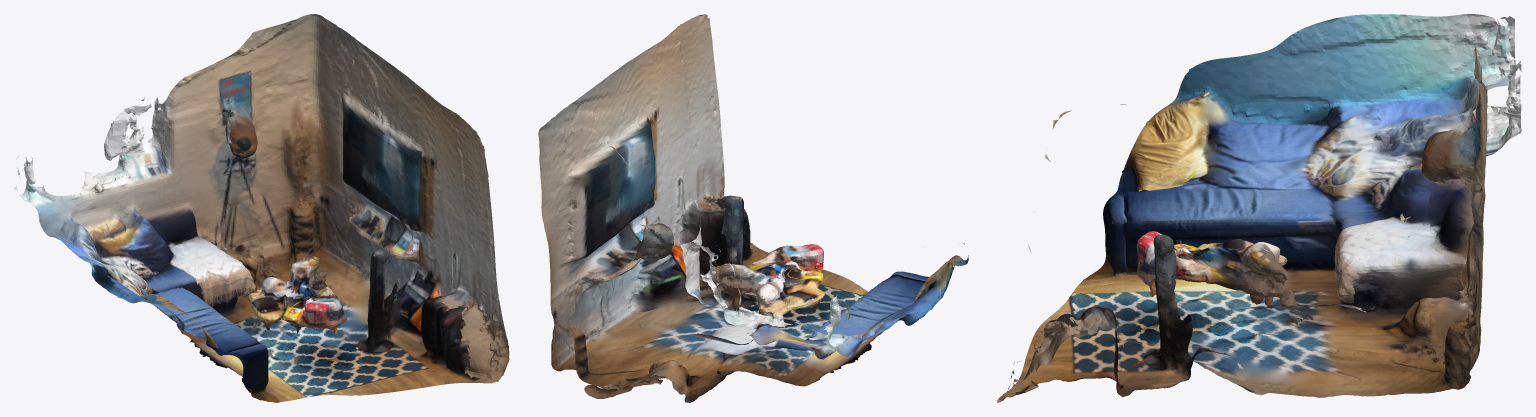
The model's file is LivingRoom.glb.
3 views of the same model, side by side, from view 1: azimuth 30°, elevation 25°; view 2: azimuth 150°, elevation 25°; view 3: azimuth 270°, elevation 25° (orthographic). The views are drawn at different scales.
Size of the model in its own units: 2.96 by 2.25 by 3.36.
Materials: 1 (1 with a texture image).
